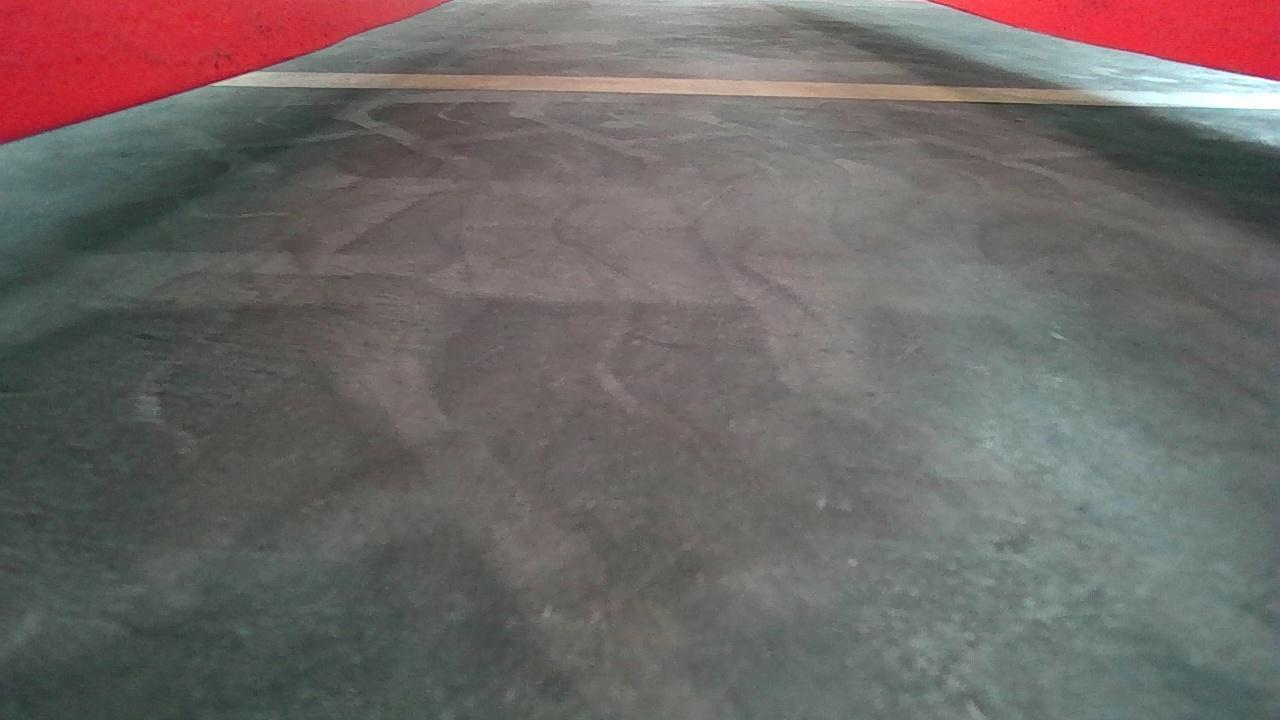yellow_line: (212, 70, 1280, 108)
